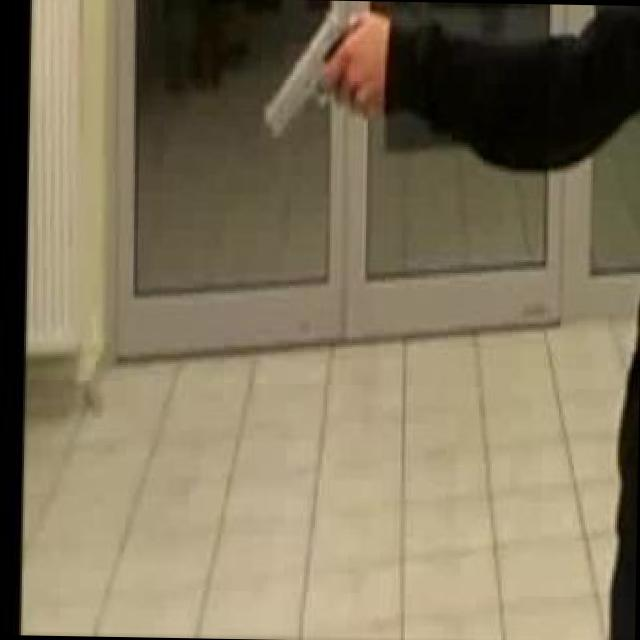Guns: (250, 0, 387, 155)
